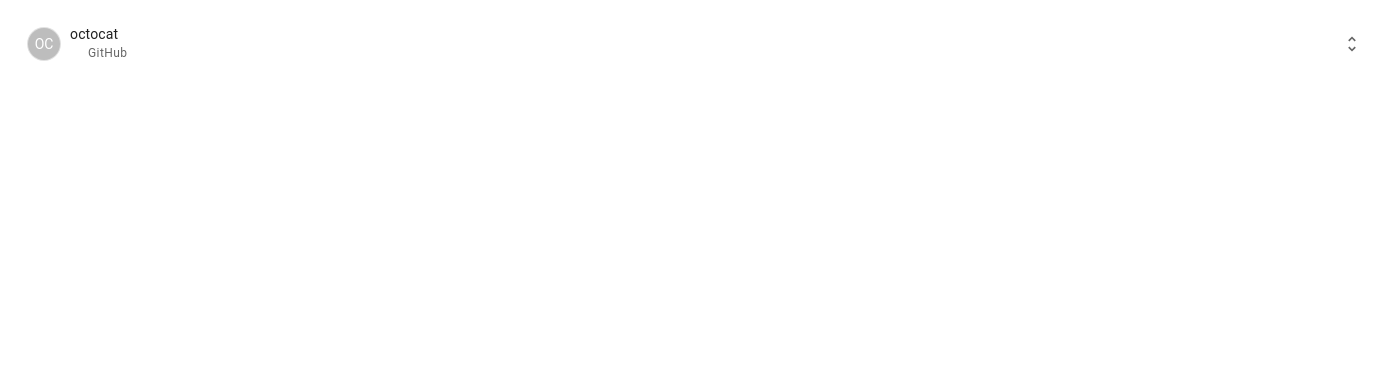
Test: Account › with needsAttention Connections shows the dot and Needs attention
The width and height of the screenshot is (1390, 392).
Click the button "OC octocat GitHub" at (44,44), box [12,12,1378,76]
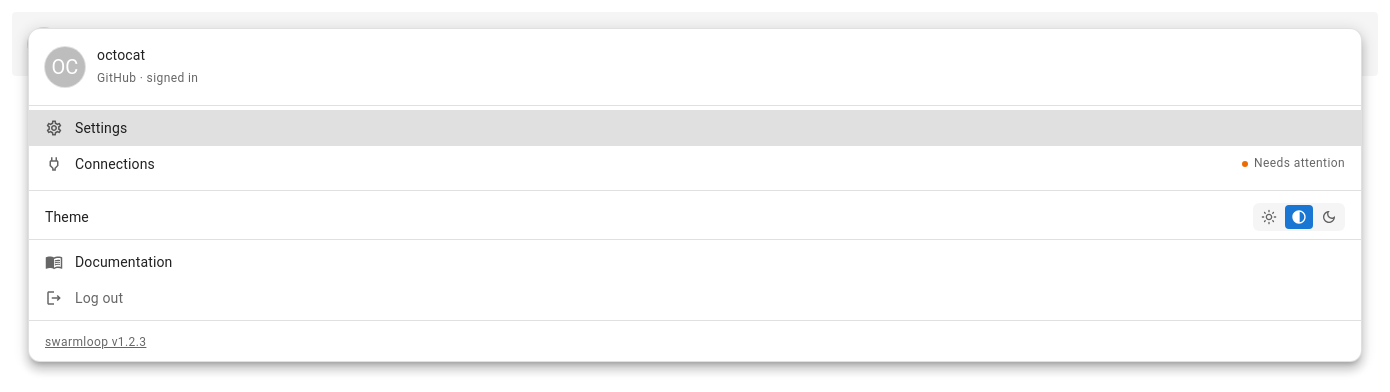
Expected: the menu item "Connections Needs attention" is shown, [45,155,1345,173]
